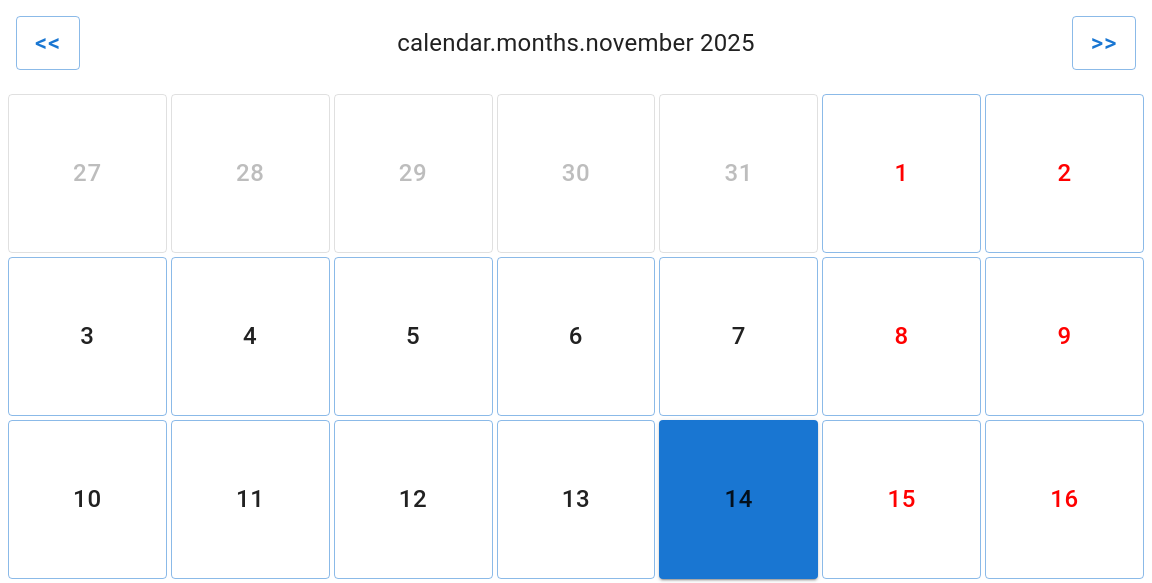
Test case: Calendar › previous month should work
The image size is (1152, 583).
Click the button "<<": x=48, y=43 [16,16,80,70]
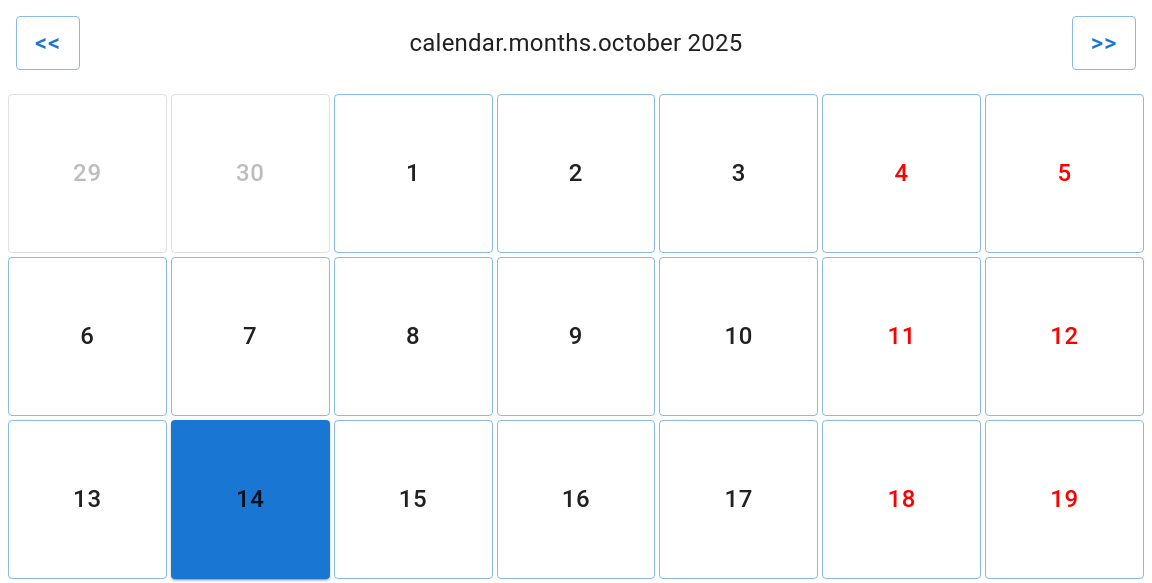
Expected: the text "calendar.months.october 2025" is shown, [394,25,758,61]
